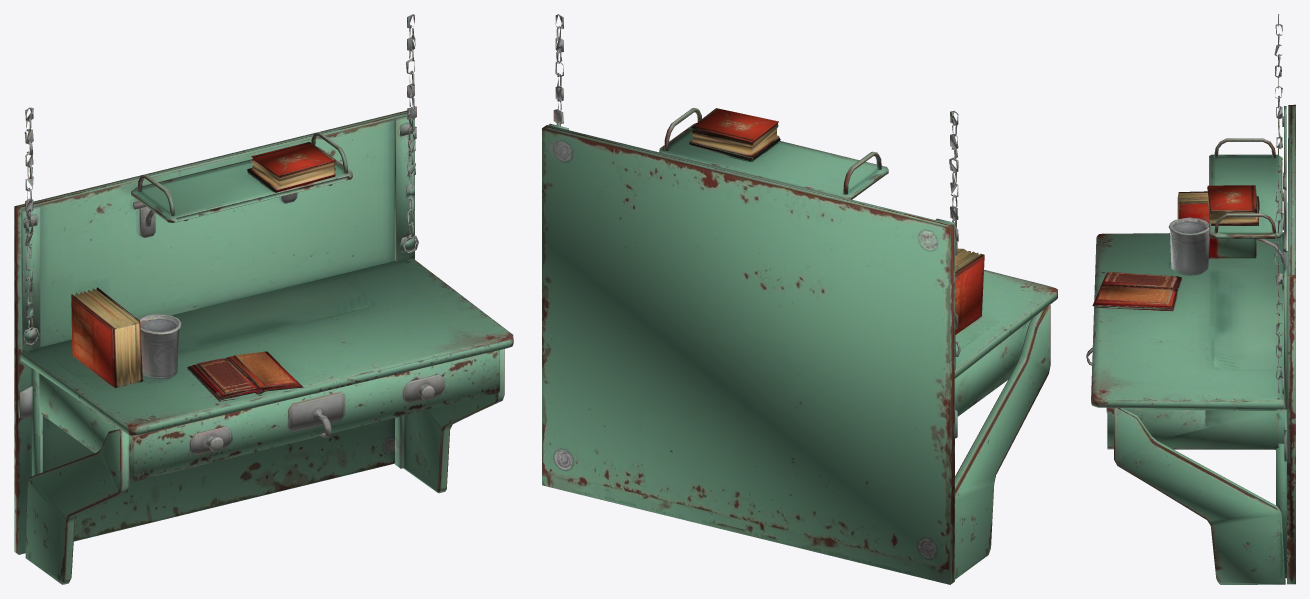
The model's file is cell_table.glb.
The picture shows the model from 3 angles, left to right: view 1: azimuth 30°, elevation 25°; view 2: azimuth 150°, elevation 25°; view 3: azimuth 270°, elevation 25°; orthographic projection. The views are drawn at different scales.
Size of the model in its own units: 0.6837 by 0.75 by 0.3523.
Materials: 1 (1 with a texture image).
